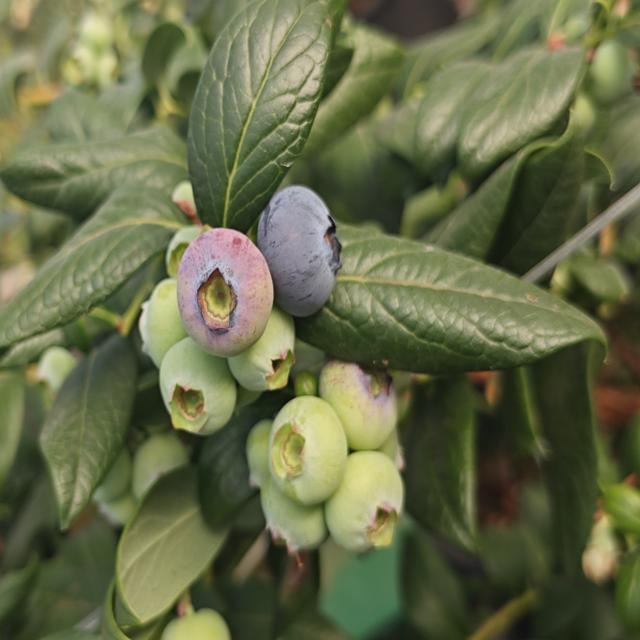ripe: (252, 176, 348, 320)
